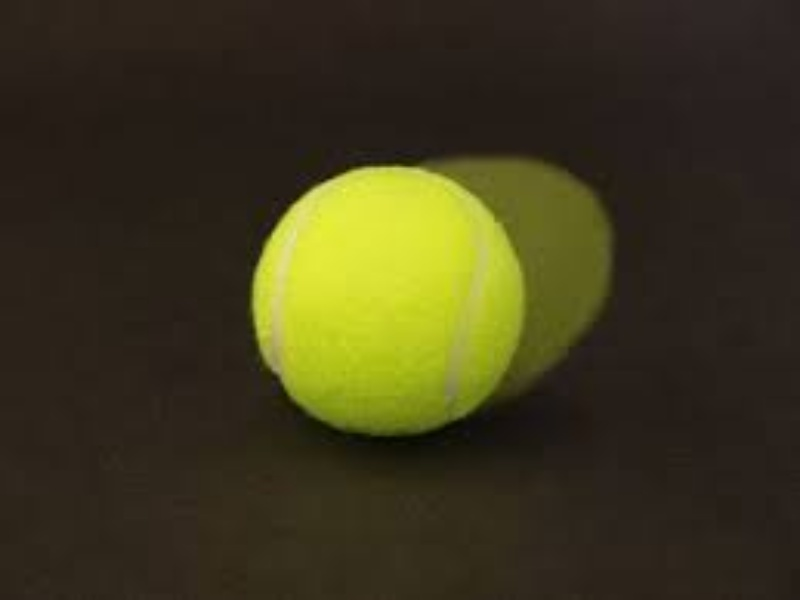tennis ball: (241, 140, 530, 460), (416, 126, 633, 416)
